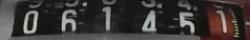digits: (210, 2, 238, 38), (174, 1, 198, 38), (99, 0, 120, 35), (139, 0, 159, 36), (58, 0, 78, 35), (22, 10, 38, 35)
